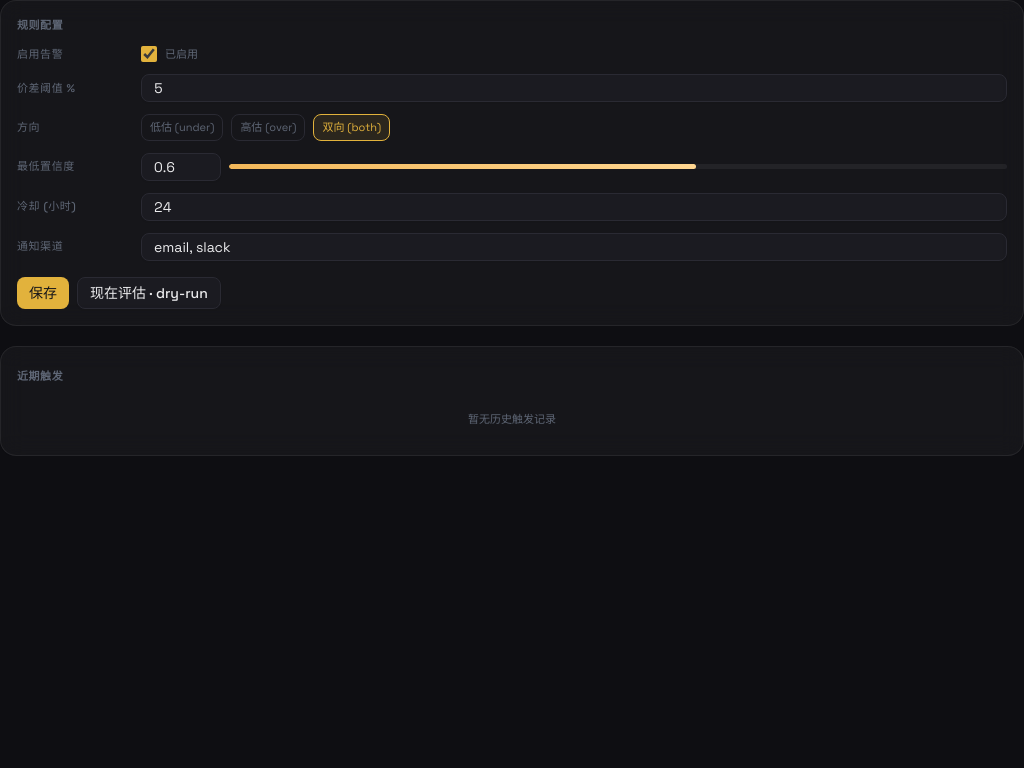
MispricingAlertPanel › shows eval-error when evaluateMispricing rejects
Click the button with test id "evaluate-btn" at (149, 292), box [77,276,221,308]
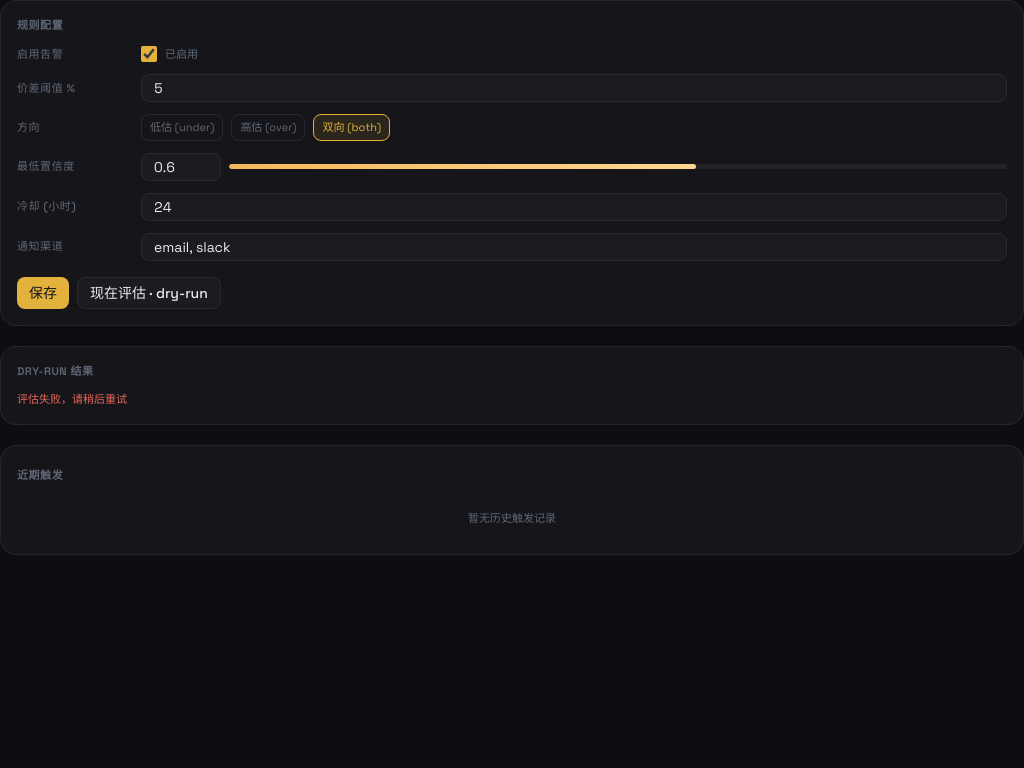
Now the text "评估失败，请稍后重试" is shown, box [17,392,127,406]
